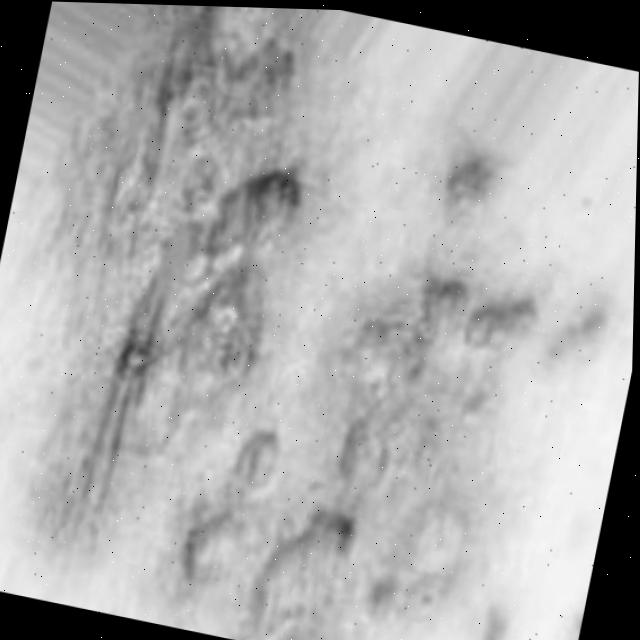Shingles: (25, 1, 578, 640)
